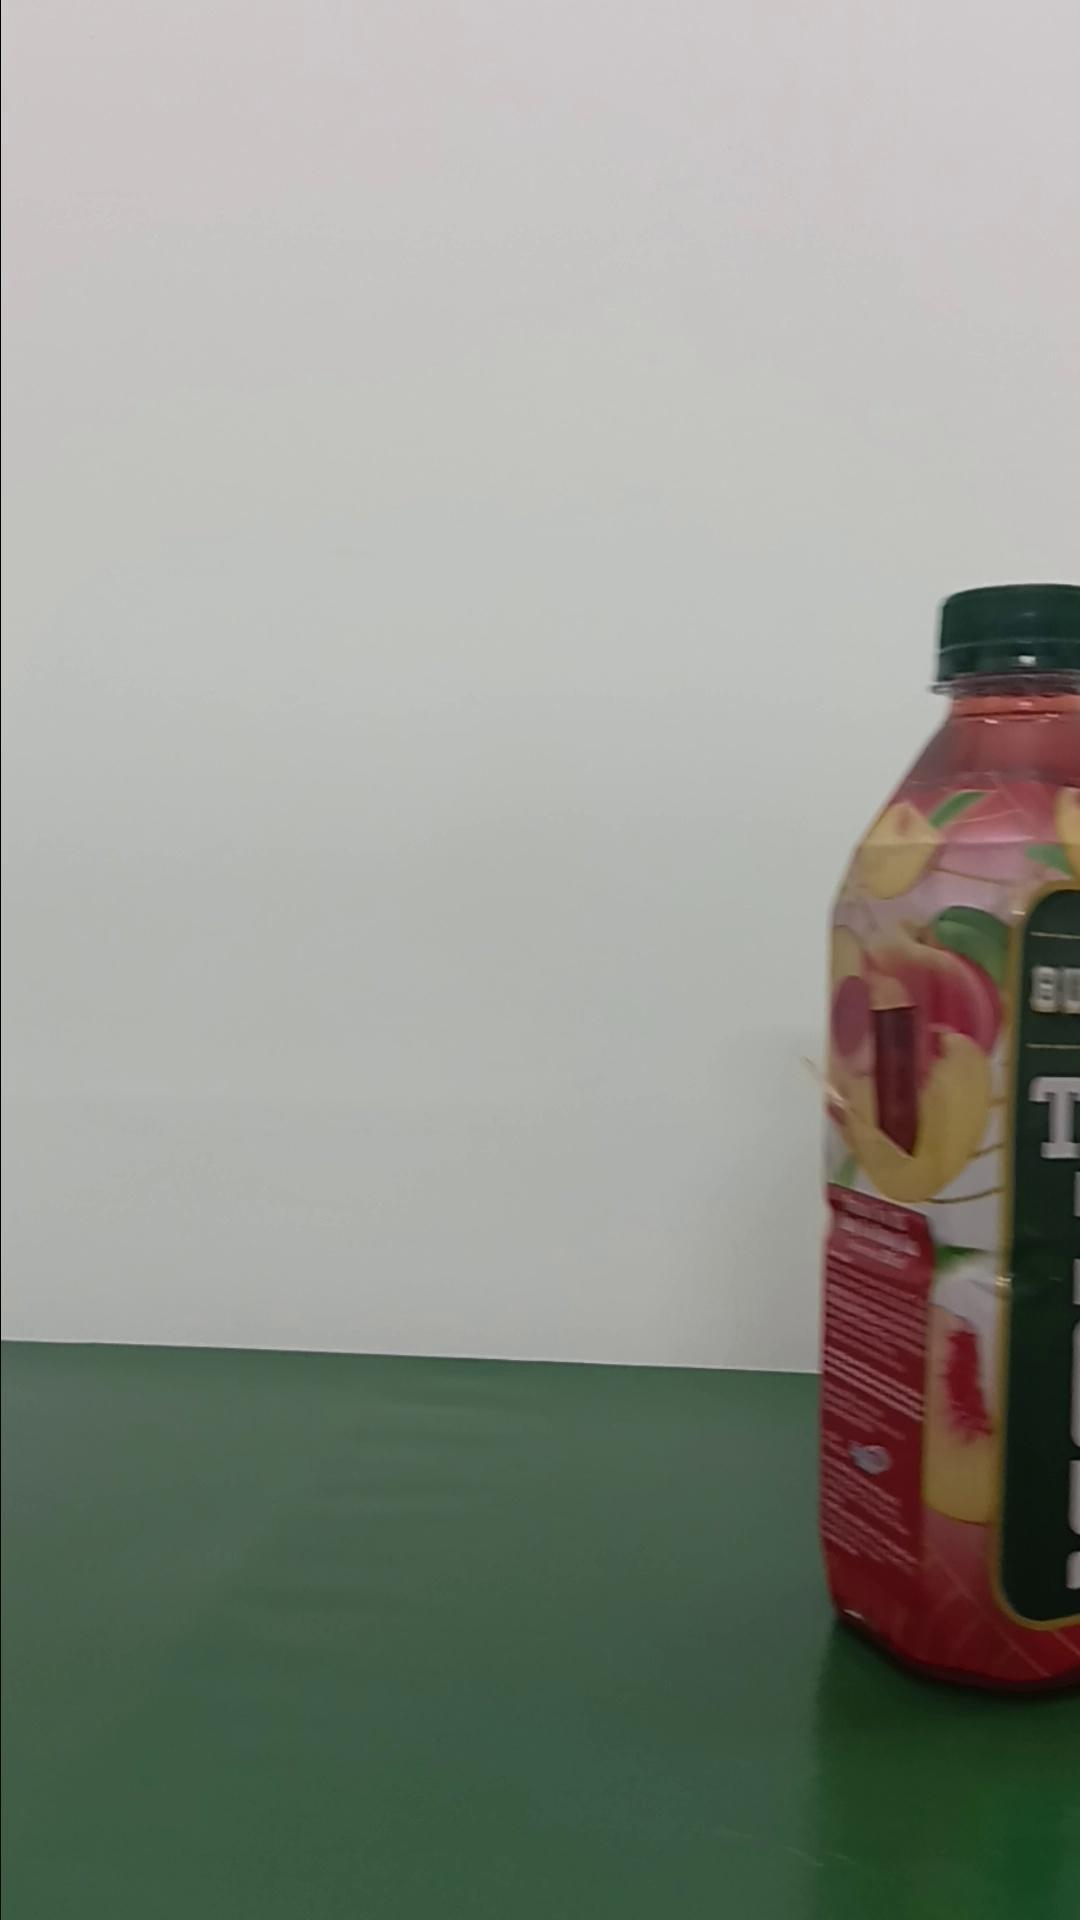loi rach va lap chai: (810, 574, 1077, 1698)
